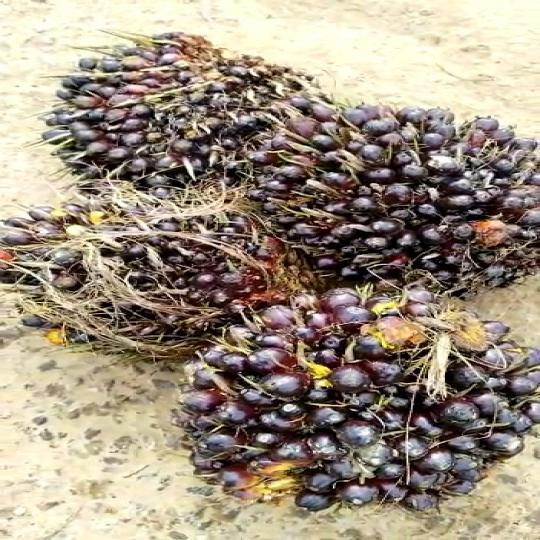mentah: (148, 278, 526, 518), (268, 96, 540, 313), (0, 185, 304, 373), (43, 7, 314, 198)
